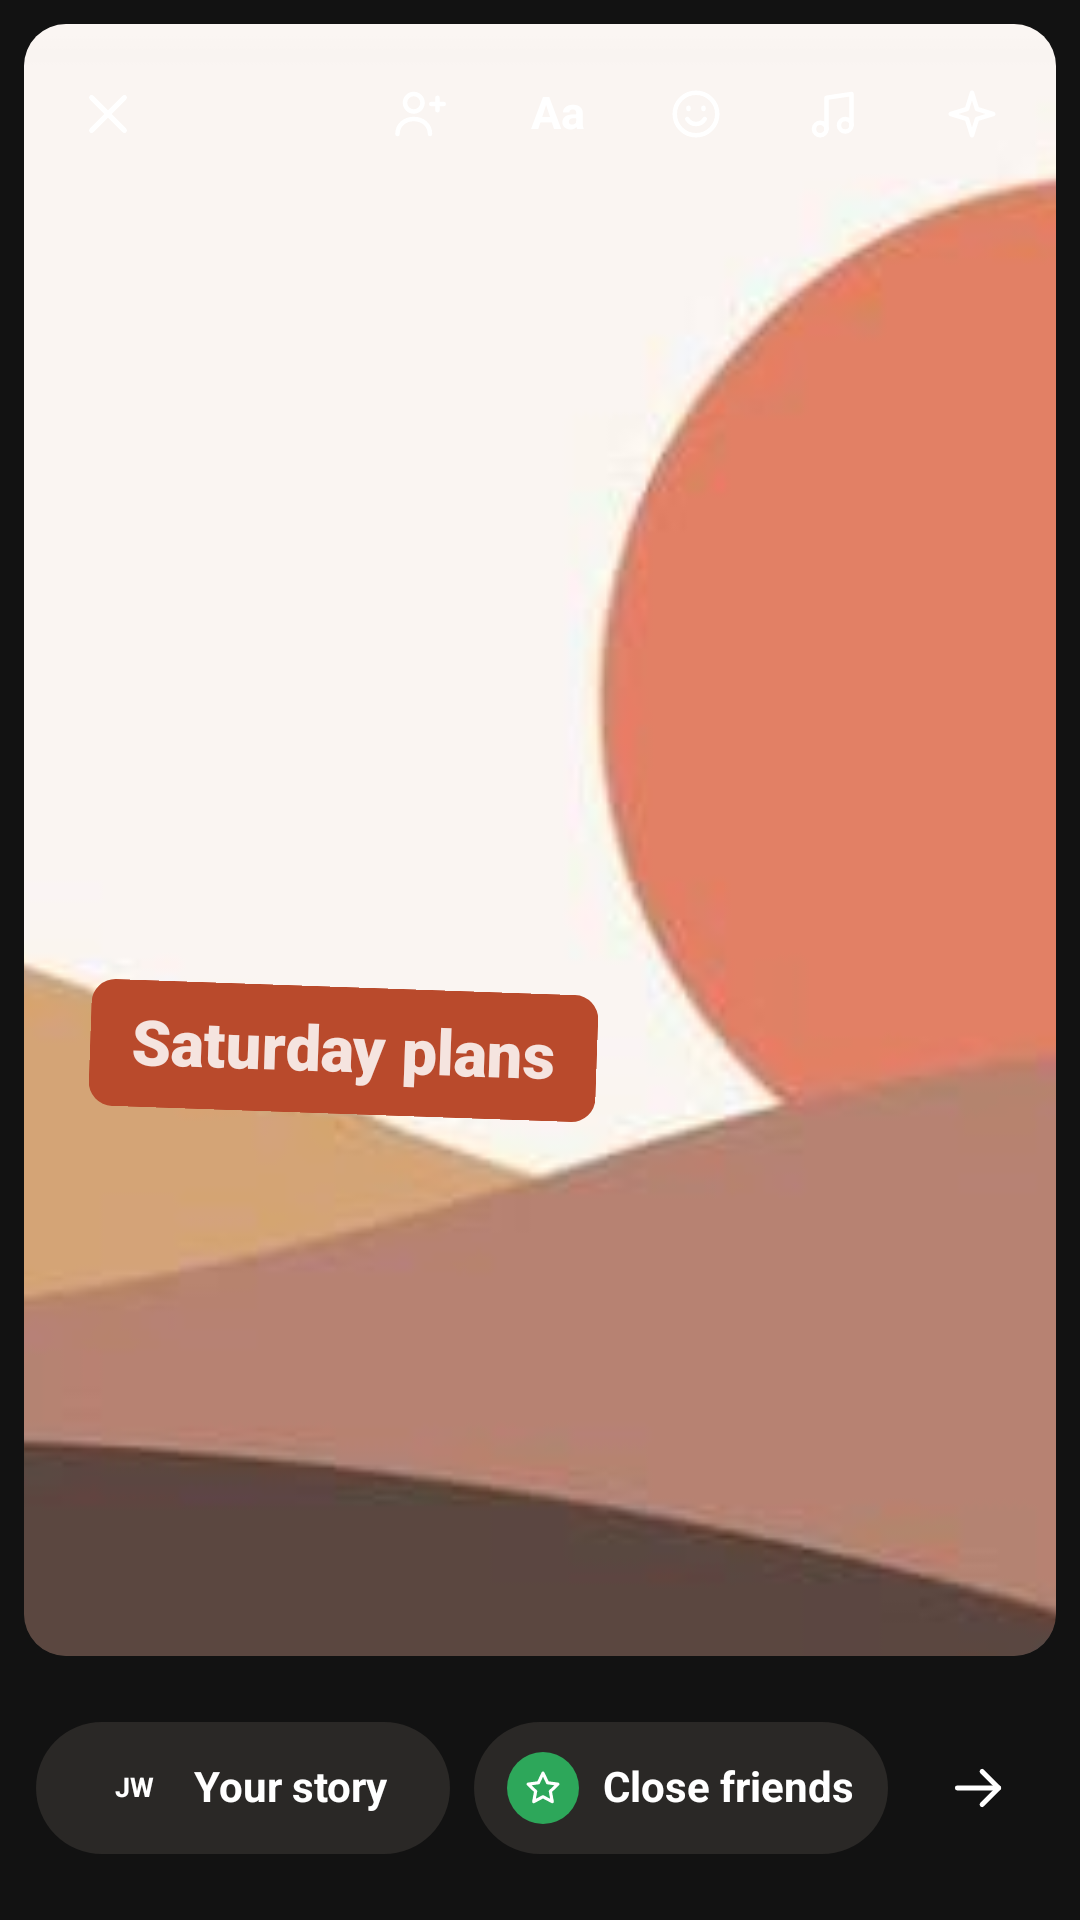

Icon bounding boxes for this 1080*1920 phone screenshot, format (x1, y1, x2, y2):
star: (507, 1752, 579, 1824)
